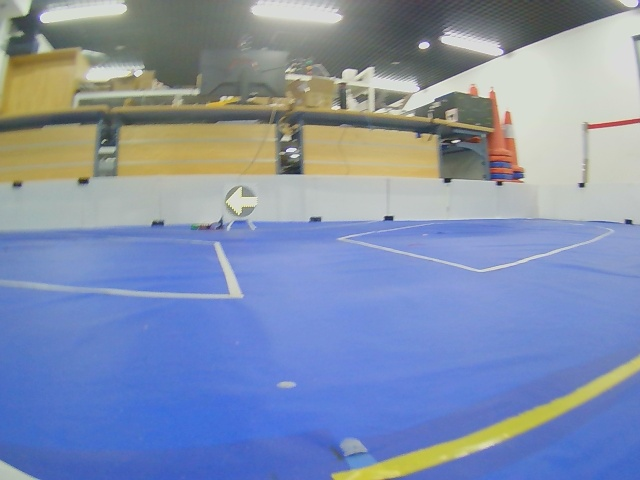left_yellow: (225, 186, 258, 217)
